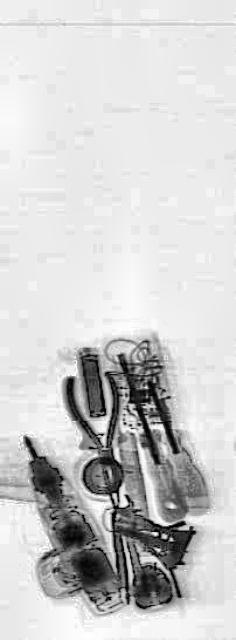Pliers: (61, 324, 137, 534)
Wrench: (111, 486, 148, 602)
